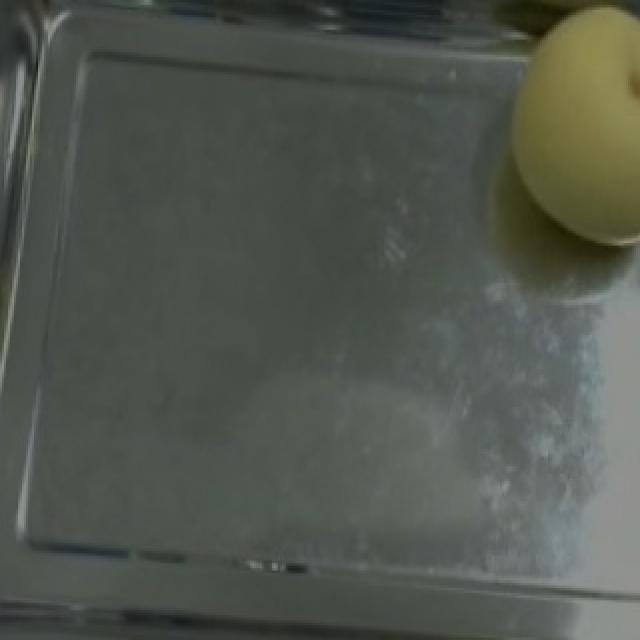Fruit: (482, 0, 640, 263)
